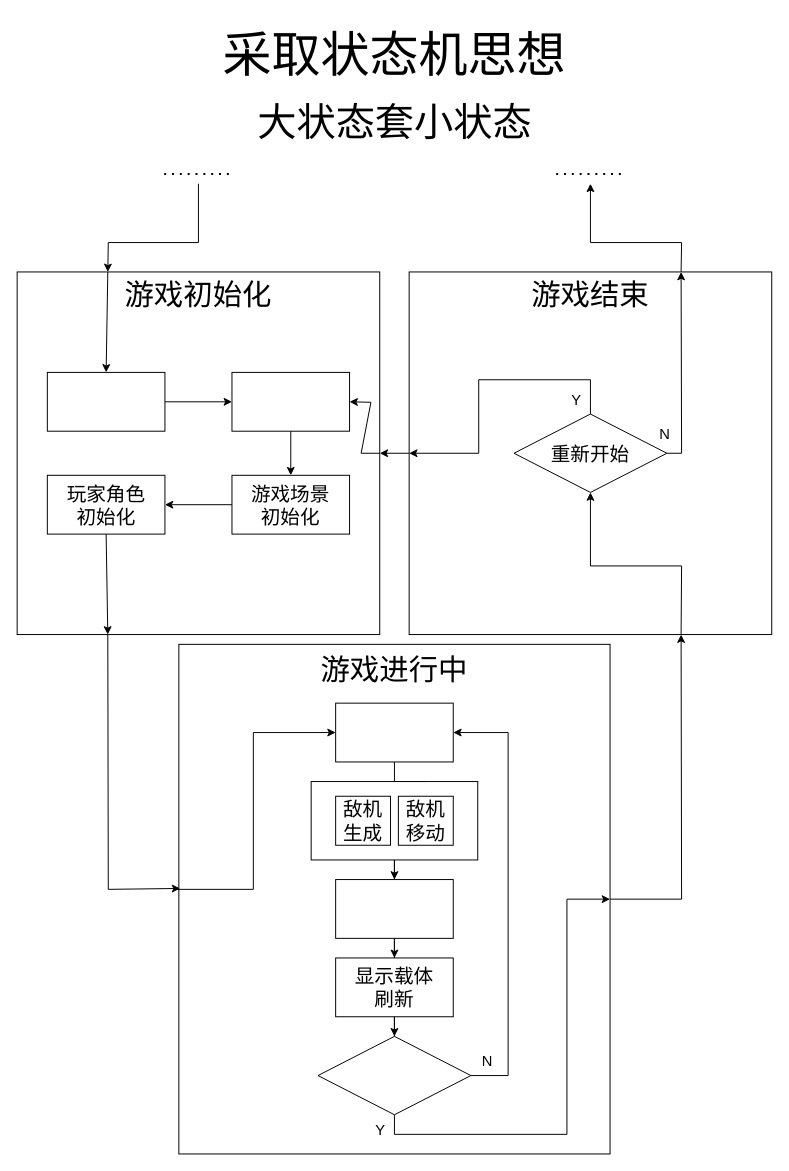
Some shapes in this 789 by 1171 pixel diagram are drawn without their labels. The centre of each missing label's shape, as x and y in pixels:
子弹 移动: (x=394, y=908)
显示载体 初始化: (x=105, y=401)
游戏参数 初始化: (x=290, y=401)
游戏失败: (x=394, y=1075)
玩家角色 移动和发射: (x=394, y=732)
